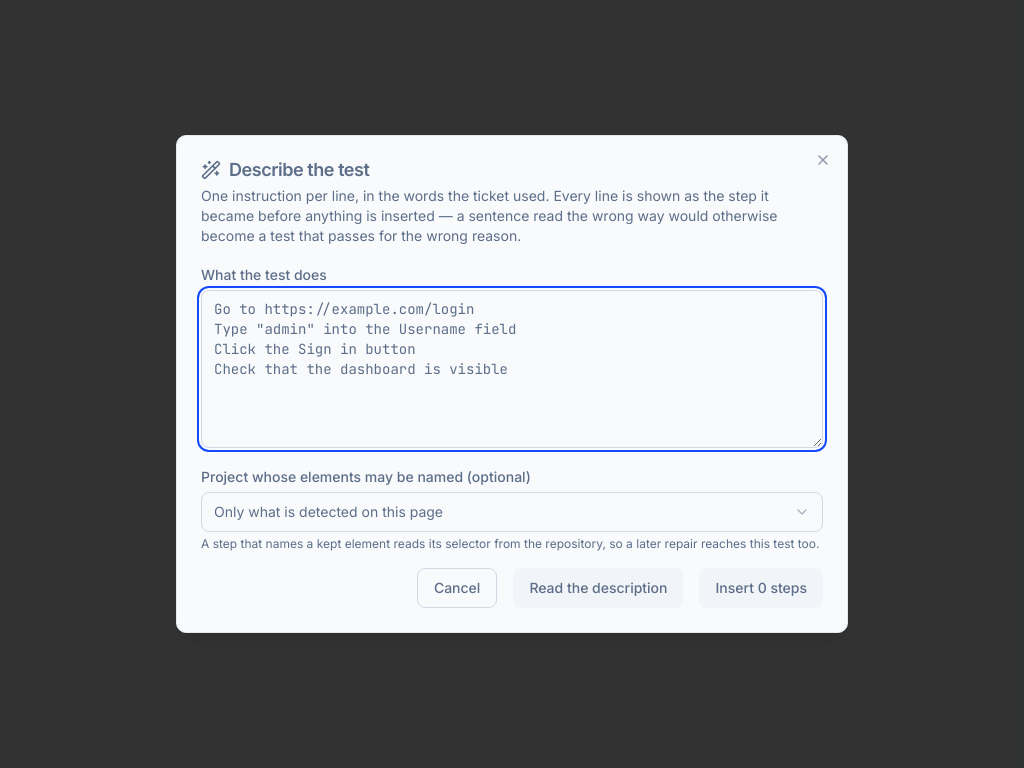
it: AuthorStepsModal › says when only the built-in phrasings were available
The width and height of the screenshot is (1024, 768).
Replace the text in the text box with test id "author-steps-text" with "Click the Save button" at (512, 369), box [201,290,823,448]
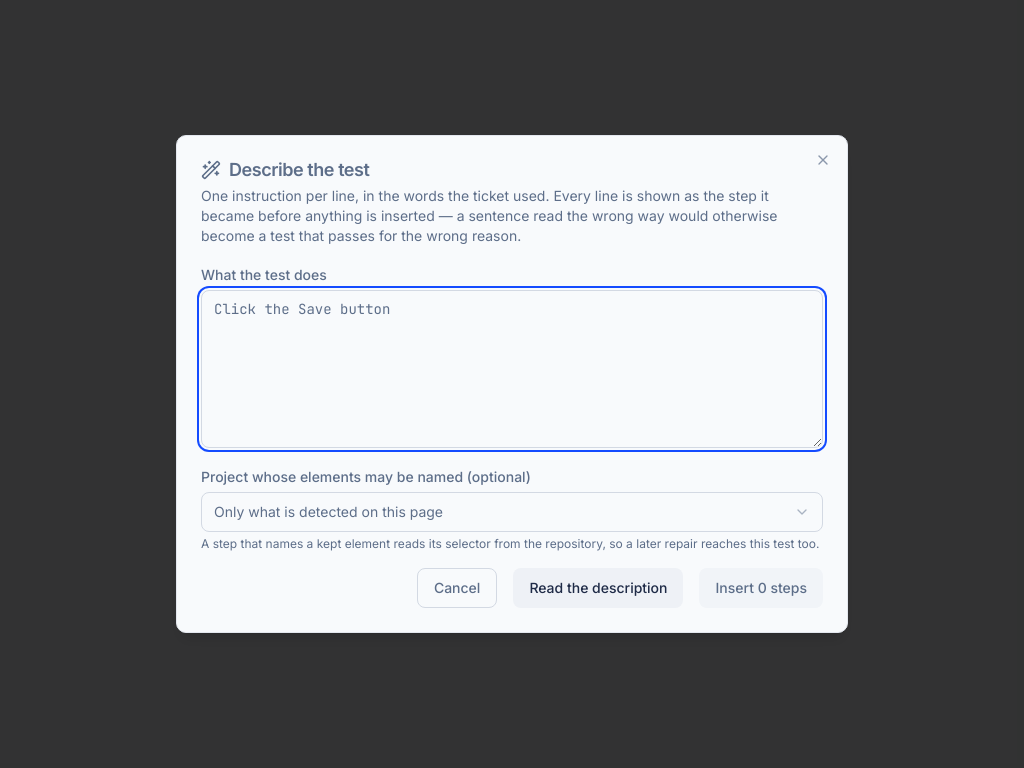
Click the button "Read the description" at (598, 588), box [513,568,684,608]
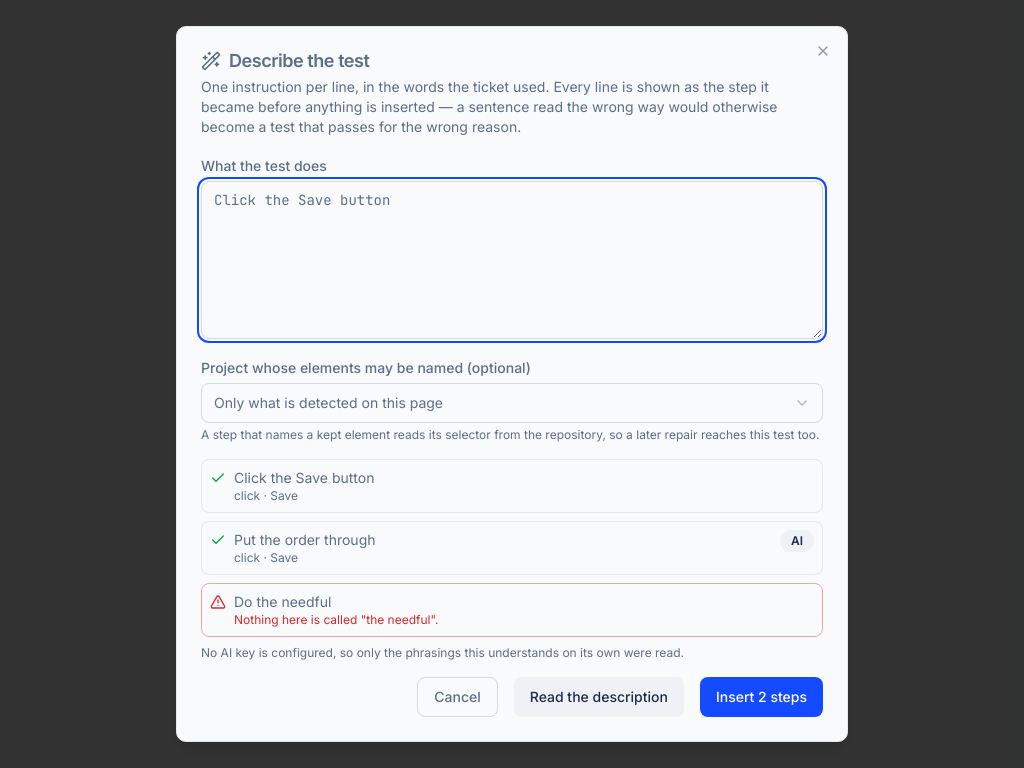
Result: the element with test id "author-steps-preview" is shown at [201,459,823,661]
Result: the text "No AI key is configured" is shown at [201,645,684,660]
